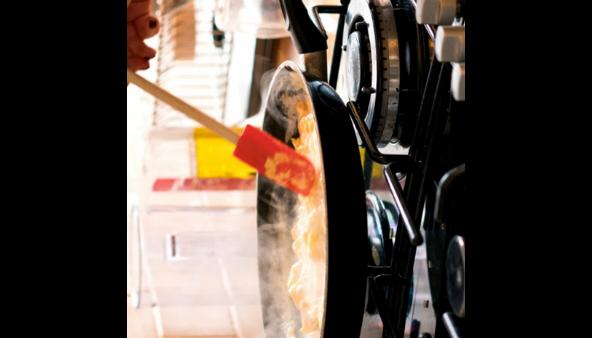controlled_fire: (356, 162, 405, 264)
